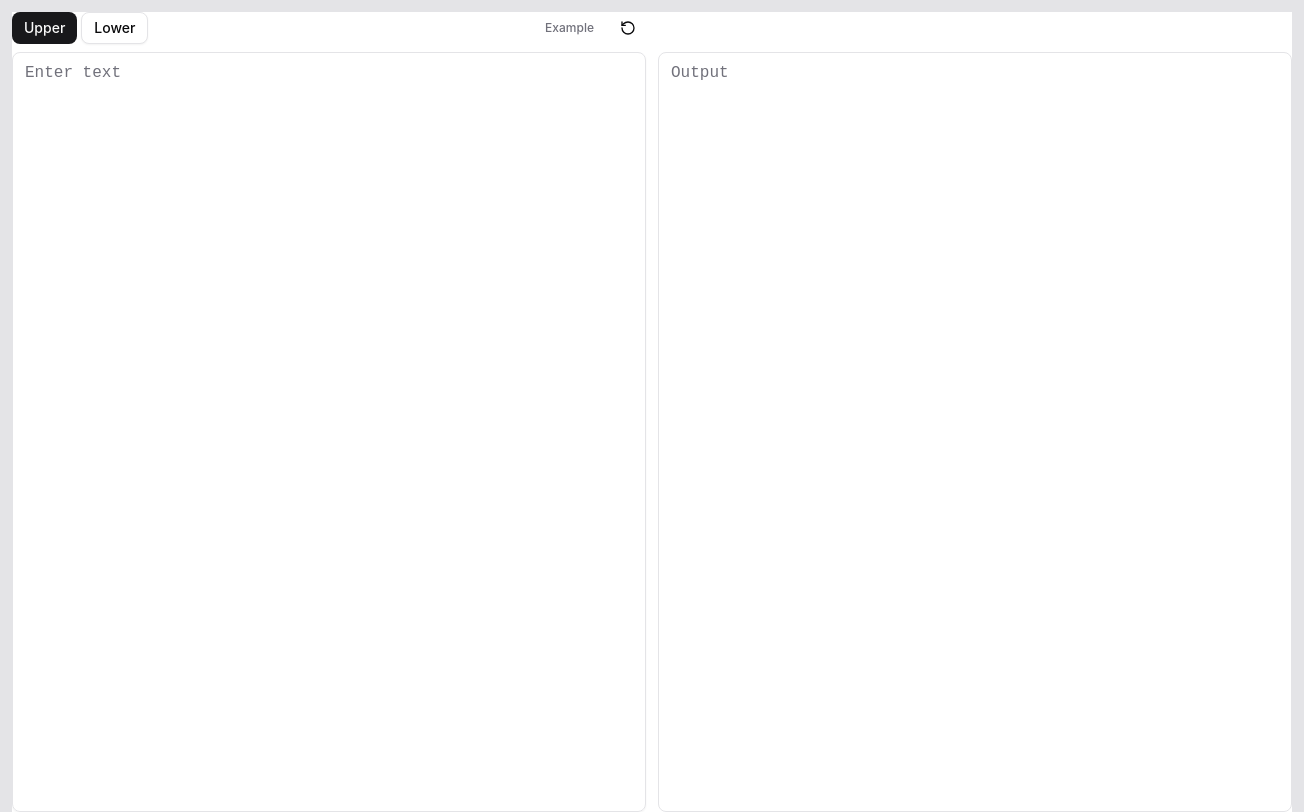
switching modes transforms the current input differently
Click the button "Example" at (570, 28), box [533,12,606,44]
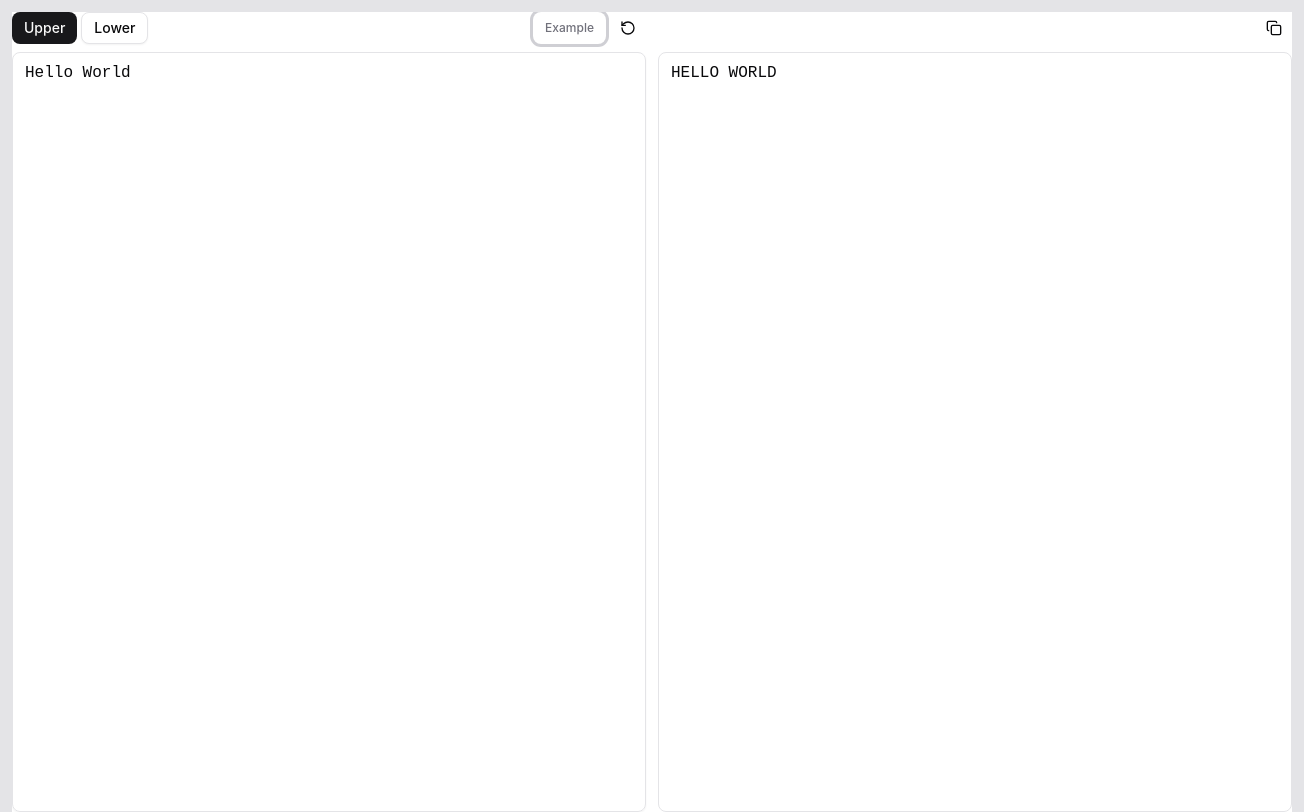
Now the text "HELLO WORLD" is shown, box [671,64,777,82]
Click the button "Lower" at (115, 28), box [81,12,148,44]
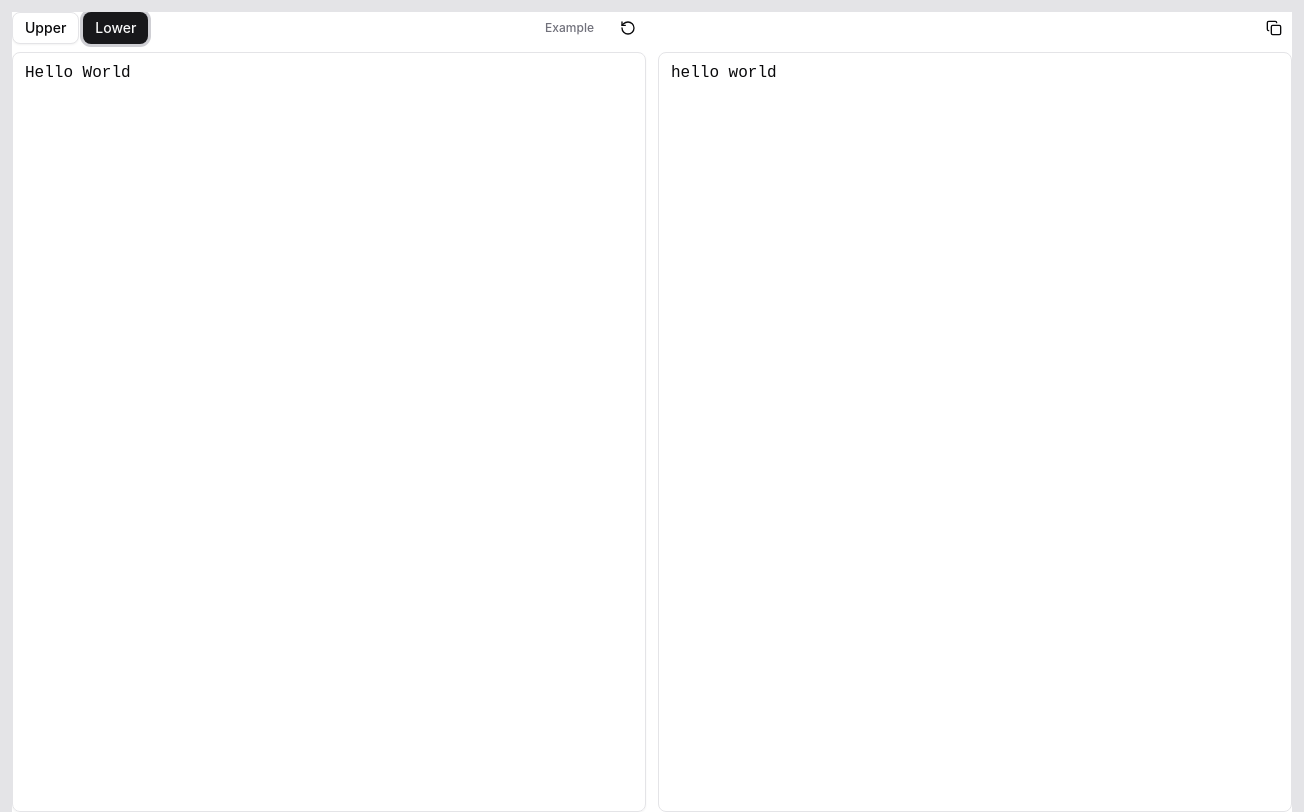
Now the text "hello world" is shown, box [671,64,777,82]
